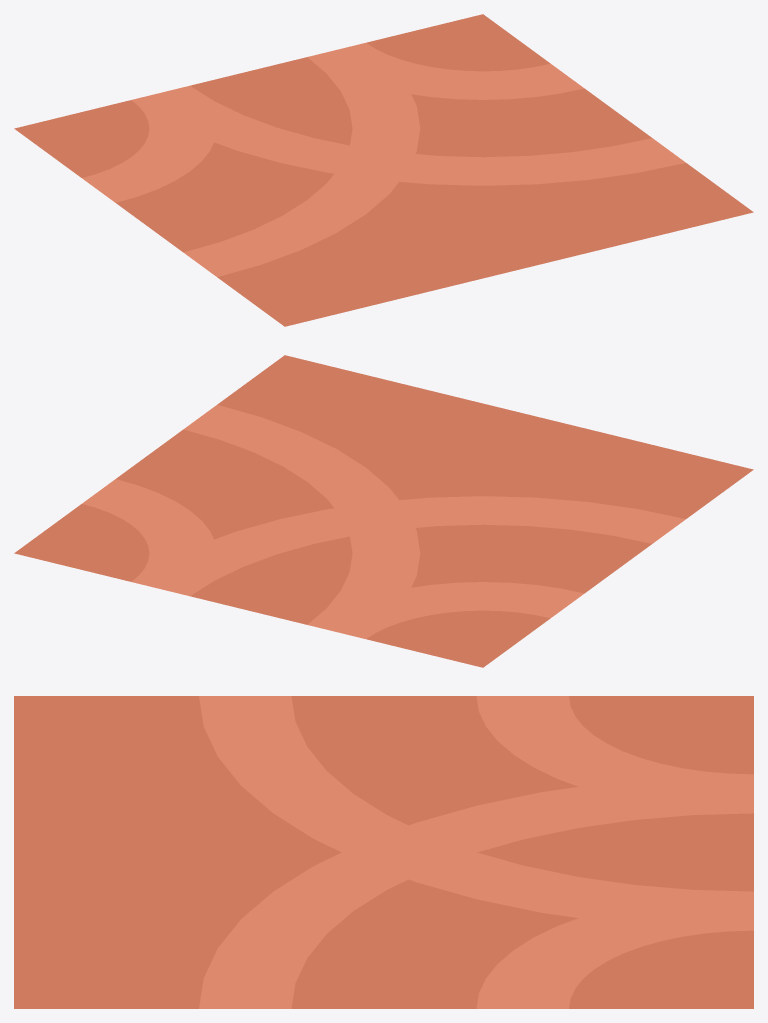
The model's file is terrain_roadSplit.glb.
The picture shows the model from 3 angles, top to bottom: view 1: azimuth 30°, elevation 25°; view 2: azimuth 150°, elevation 25°; view 3: azimuth 270°, elevation 25°; orthographic projection. The views are drawn at different scales.
Visible parts, largest first — view 1: terrain_roadSplit; view 2: terrain_roadSplit; view 3: terrain_roadSplit.
Part boxes in pixels (<box>): terrain_roadSplit: <box>14,14,753,326</box>; terrain_roadSplit: <box>14,355,753,667</box>; terrain_roadSplit: <box>14,696,753,1008</box>.
Bounding box in the file's own units: 1 × 4.8e-17 × 1.
